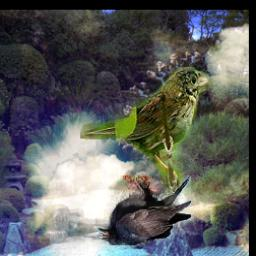Crow: (95, 176, 191, 245)
Sparrow: (81, 68, 210, 197)
